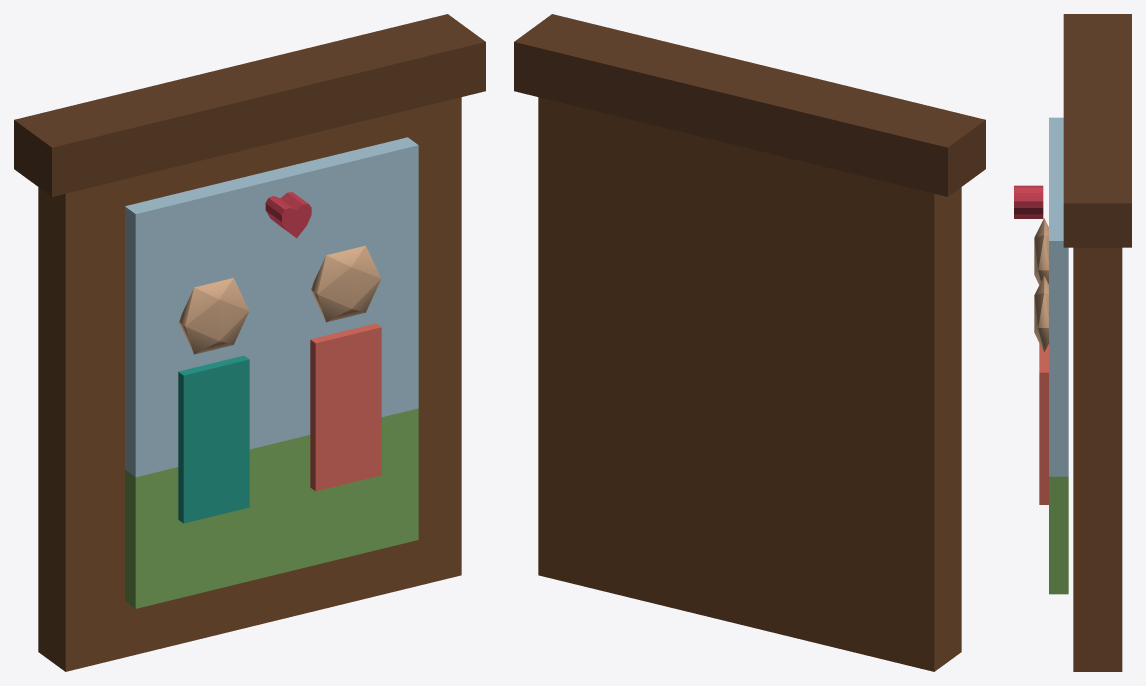
The model's file is couple_photo.glb.
3 views of the same model, side by side, from view 1: azimuth 30°, elevation 25°; view 2: azimuth 150°, elevation 25°; view 3: azimuth 270°, elevation 25° (orthographic). The views are drawn at different scales.
Visible parts, largest first — view 1: furniture-couple_photo; view 2: furniture-couple_photo; view 3: furniture-couple_photo.
Boxes of the visible parts, x1,y1,x2,y2 form: furniture-couple_photo: (14, 14, 485, 671); furniture-couple_photo: (514, 14, 985, 671); furniture-couple_photo: (1014, 14, 1131, 671).
Bounding box in the file's own units: 0.46 × 0.54 × 0.121.
